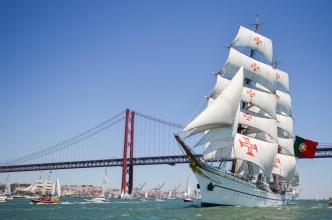fanchuan: (174, 19, 304, 213)
